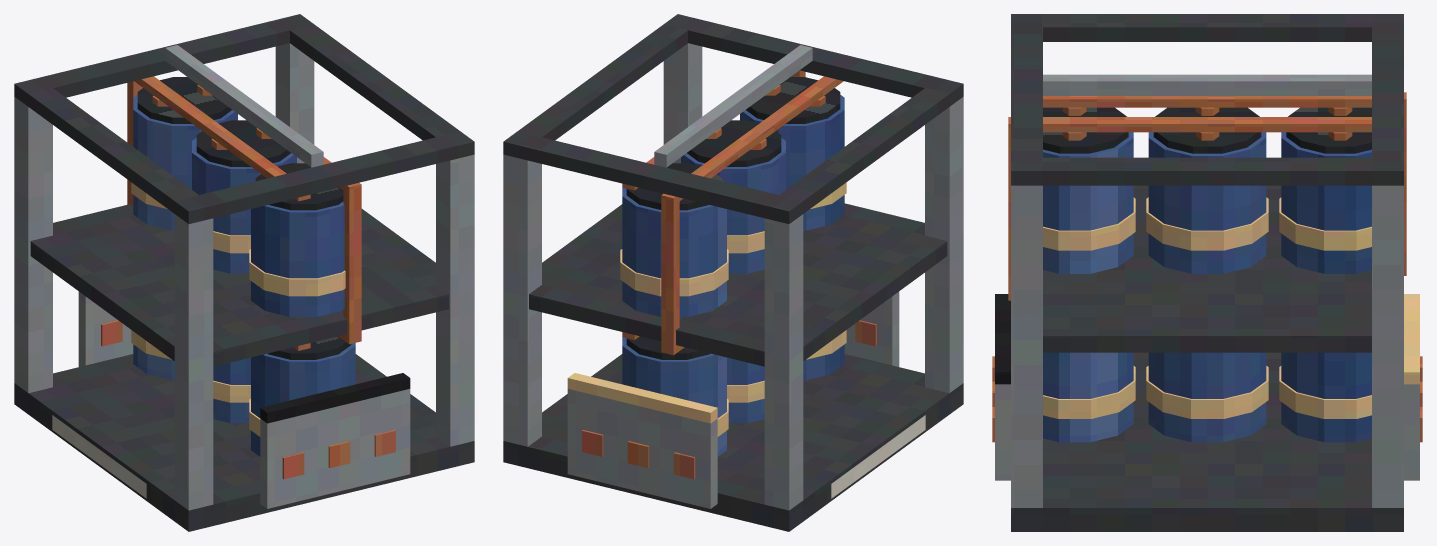
Rendered from capacitorbank.obj.
The picture shows the model from 3 angles, left to right: view 1: azimuth 30°, elevation 25°; view 2: azimuth 150°, elevation 25°; view 3: azimuth 270°, elevation 25°; orthographic projection. The views are drawn at different scales.
Visible parts, largest first — view 1: main; view 2: main; view 3: main.
Part boxes in pixels (<box>): main: <box>14,14,474,531</box>; main: <box>503,14,963,531</box>; main: <box>992,14,1422,531</box>.
Size of the model in its own units: 0.8812 by 0.975 by 1.01.
Materials: 1 (1 with a texture image).
